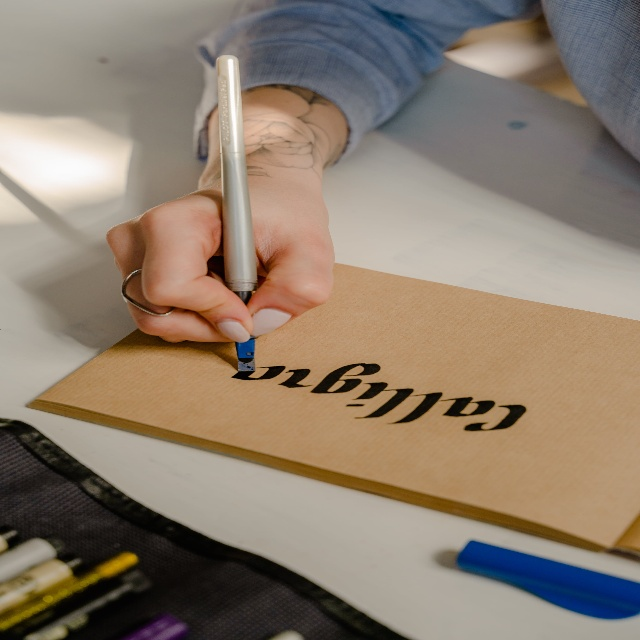Sin_guantes: (106, 187, 333, 344)
